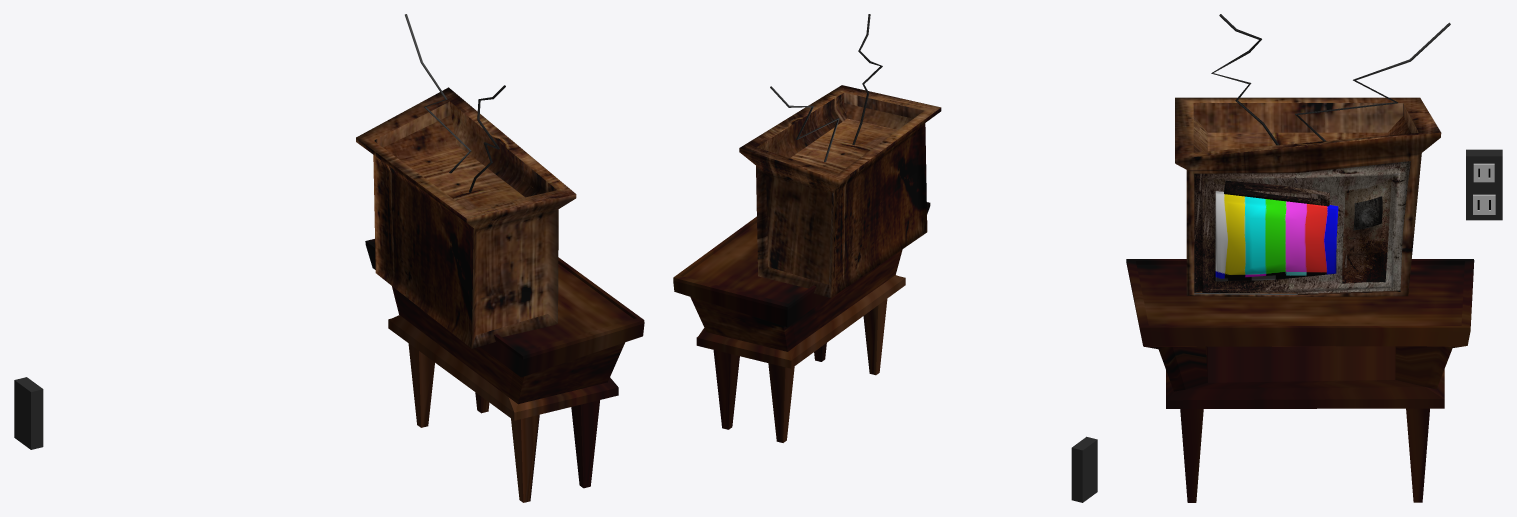
Rendered from TvMonster (1).fbx.
3 views of the same model, side by side, from view 1: azimuth 30°, elevation 25°; view 2: azimuth 150°, elevation 25°; view 3: azimuth 270°, elevation 25° (orthographic). The views are drawn at different scales.
Parts seen in each view (by area): view 1: TV, Desk, Outlit; view 2: TV, Desk, Outlit; view 3: TV, Desk, Outlit.
Part boxes in pixels (<box>): TV: <box>356,14,576,348</box>; Desk: <box>365,239,644,502</box>; Outlit: <box>14,377,43,449</box>; TV: <box>739,14,941,297</box>; Desk: <box>673,202,930,442</box>; Outlit: <box>1071,436,1097,502</box>; TV: <box>1175,14,1450,296</box>; Desk: <box>1126,259,1474,502</box>; Outlit: <box>1466,149,1502,220</box>.
Bounding box in the file's own units: 893 × 746 × 565.
